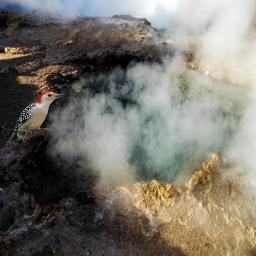Woodpecker: (9, 91, 68, 143)
